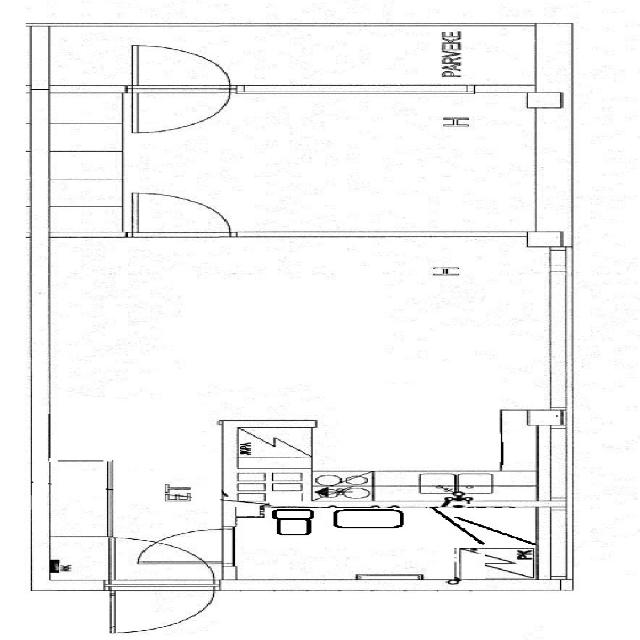door: (118, 41, 233, 138), (118, 188, 238, 239)
window: (226, 82, 484, 100)
zone: (34, 230, 568, 392), (126, 90, 542, 238), (222, 403, 552, 504), (245, 506, 490, 580), (446, 25, 539, 88), (103, 586, 220, 636), (121, 526, 236, 566)
